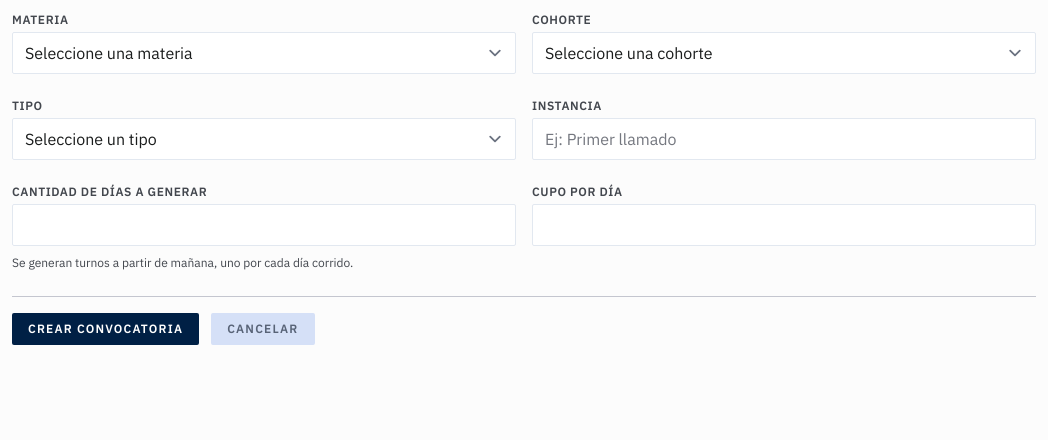
Test: ConvocatoriaForm — crear convocatoria › bloquea envío sin completar los campos requeridos
Click the button "Crear convocatoria": (106, 329) [12, 313, 199, 345]
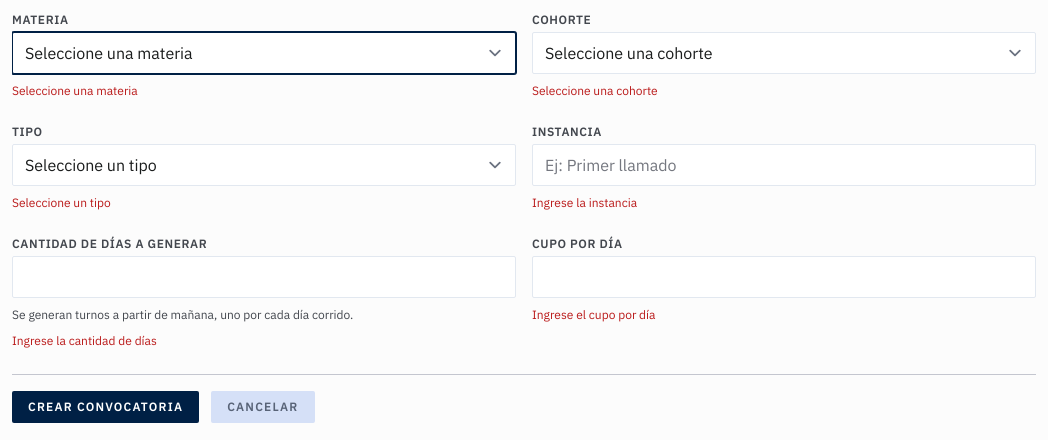
Expected: the text "Seleccione una materia" is shown, [12, 83, 138, 98]
